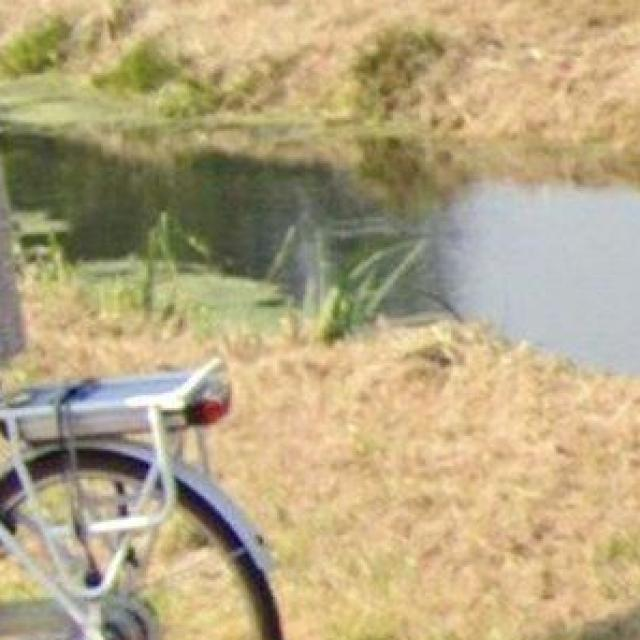bicycle: (1, 360, 285, 640)
